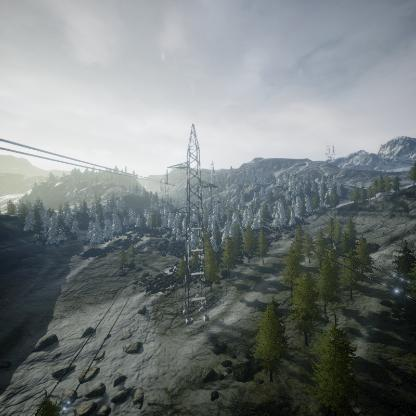tower: (164, 119, 224, 322)
